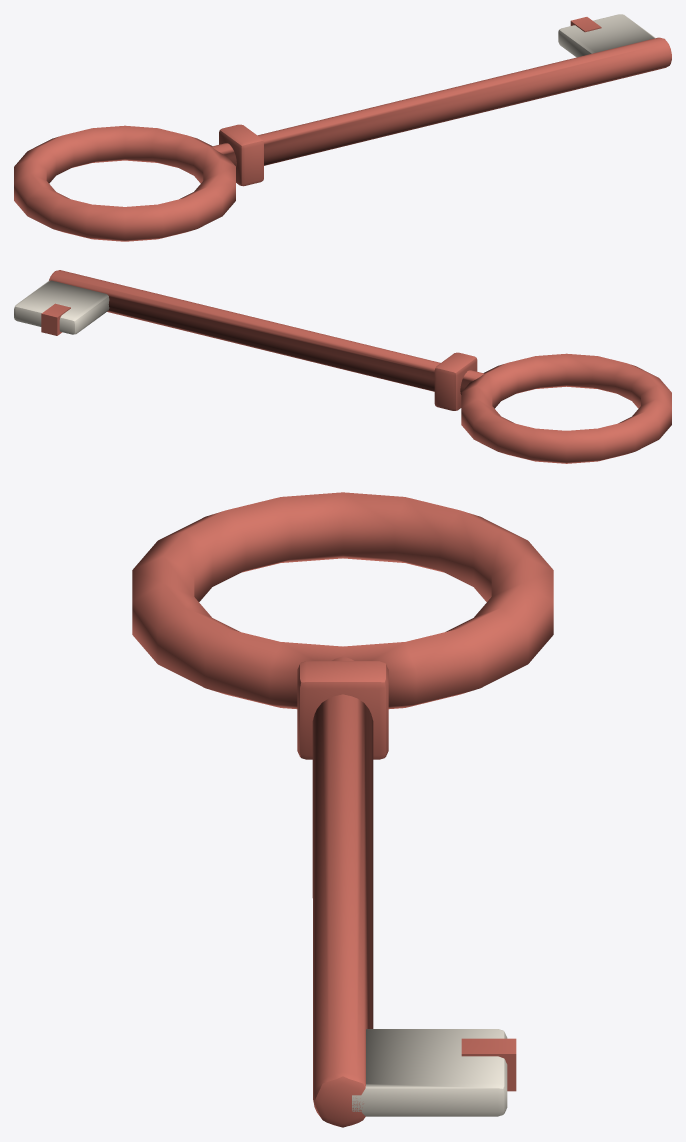
Rendered from nd_key_1.glb.
3 views of the same model, one above another, from view 1: azimuth 30°, elevation 25°; view 2: azimuth 150°, elevation 25°; view 3: azimuth 270°, elevation 25° (orthographic). The views are drawn at different scales.
Parts seen in each view (by area): view 1: PART; view 2: PART; view 3: PART.
Boxes of the visible parts, bbox=[...] form: PART: bbox=[14, 14, 671, 241]; PART: bbox=[14, 270, 671, 463]; PART: bbox=[132, 492, 553, 1127].
Size of the model in its own units: 0.1535 by 0.01 by 0.0462.
